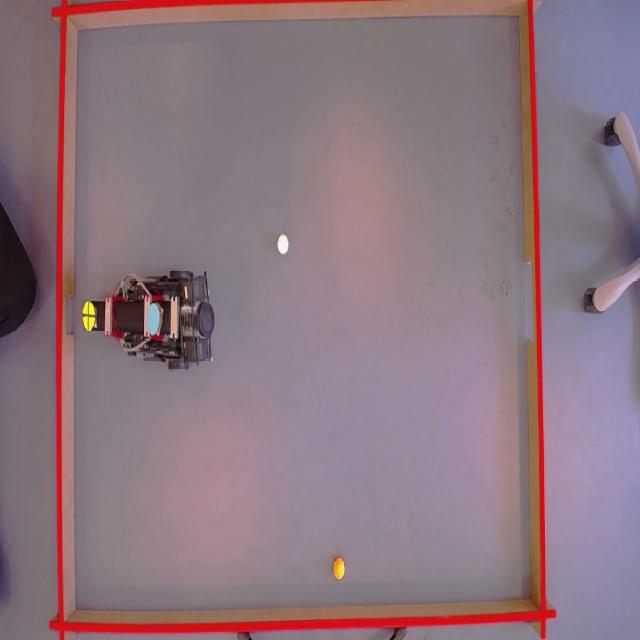orange: (332, 560, 347, 582)
robot: (81, 272, 215, 368)
robot-front: (82, 300, 96, 332)
robot-rear: (146, 301, 163, 332)
white: (275, 233, 289, 254)
